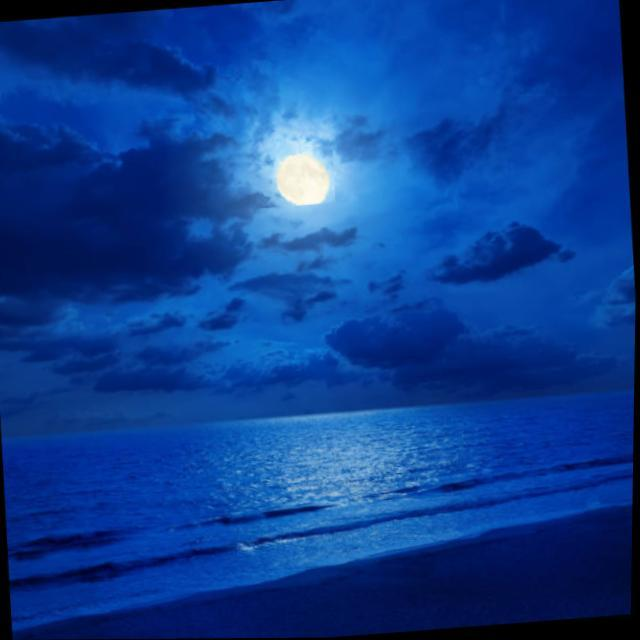moon: (254, 140, 336, 208)
